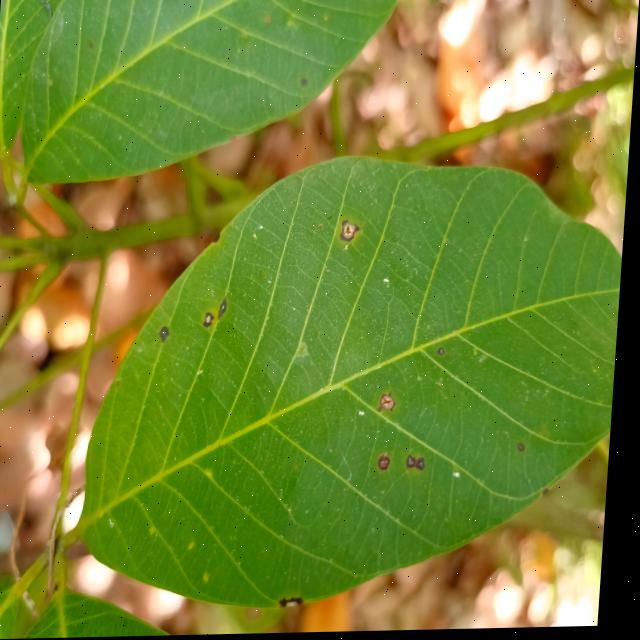Colletotrichum: (341, 221, 363, 244), (384, 396, 401, 413), (383, 457, 397, 473), (162, 327, 174, 343), (207, 313, 218, 330), (411, 456, 422, 471), (421, 459, 432, 472), (522, 446, 531, 455), (440, 349, 449, 357)
